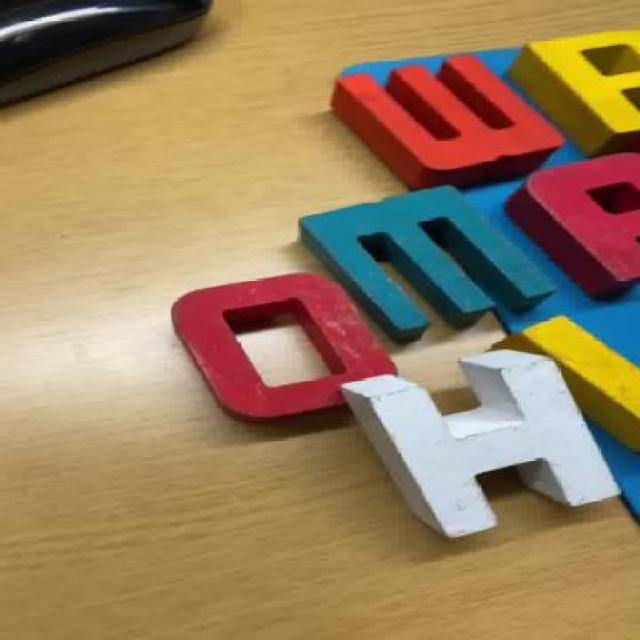H: (335, 345, 617, 547)
M: (276, 178, 558, 324)
O: (185, 272, 388, 410)
W: (346, 53, 565, 179)
